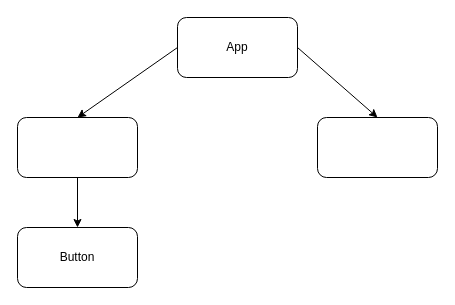
The diagram is 455 pixels wide and 305 high, and some of its shapes have lost their labels. The centre of each missing label's shape, as x and y in pixels:
"ButtonContainer" belongs at pixel 77 147.
"Showing" belongs at pixel 377 147.
